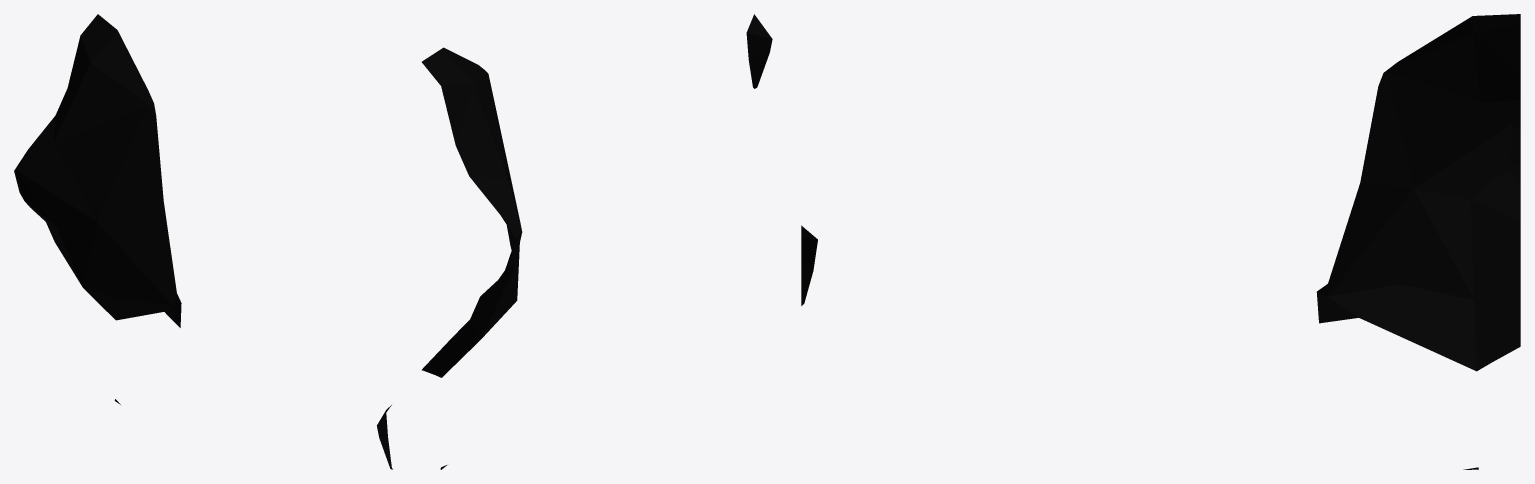
The picture shows the model from 3 angles, left to right: view 1: azimuth 30°, elevation 25°; view 2: azimuth 150°, elevation 25°; view 3: azimuth 270°, elevation 25°; orthographic projection. The views are drawn at different scales.
Bounding box in the file's own units: 0.1403 × 0.5859 × 0.8373.
Materials: 1 (1 with a texture image).
